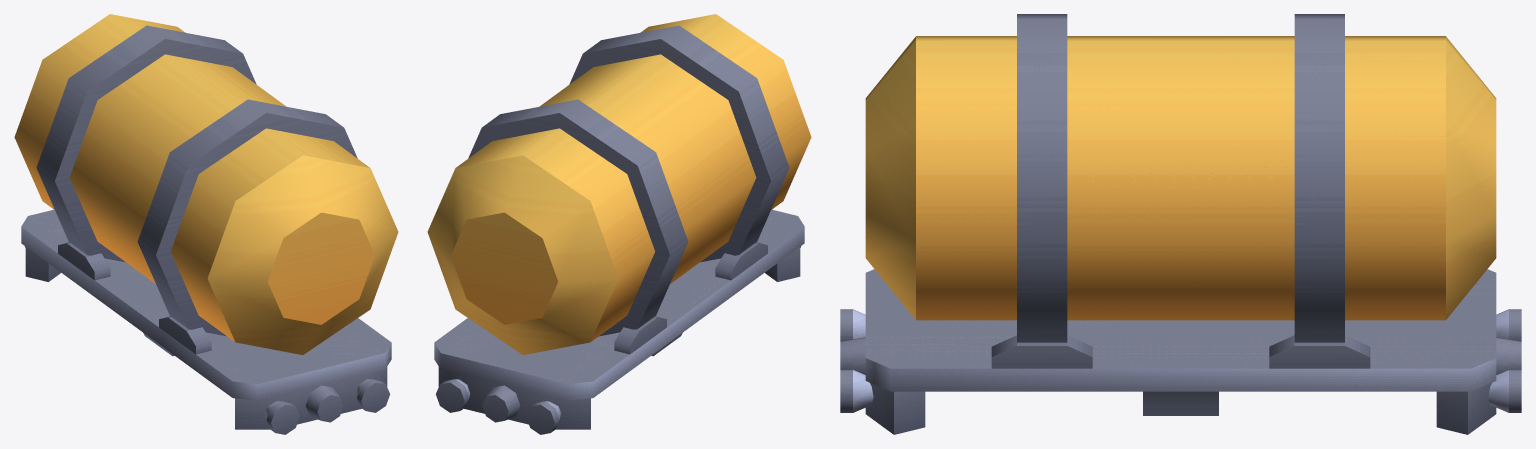
Rendered from train-carriage-tank-large_lev2.glb.
The picture shows the model from 3 angles, left to right: view 1: azimuth 30°, elevation 25°; view 2: azimuth 150°, elevation 25°; view 3: azimuth 270°, elevation 25°; orthographic projection. The views are drawn at different scales.
Parts seen in each view (by area): view 1: train-carriage-tank-large_lev2; view 2: train-carriage-tank-large_lev2; view 3: train-carriage-tank-large_lev2.
Boxes of the visible parts, box(x1,y1,x2,y2) form: train-carriage-tank-large_lev2: box(14, 14, 398, 434); train-carriage-tank-large_lev2: box(427, 14, 811, 434); train-carriage-tank-large_lev2: box(840, 14, 1521, 434).
Bounding box in the file's own units: 1.39 × 1.59 × 2.7.
Materials: 1 (1 with a texture image).
